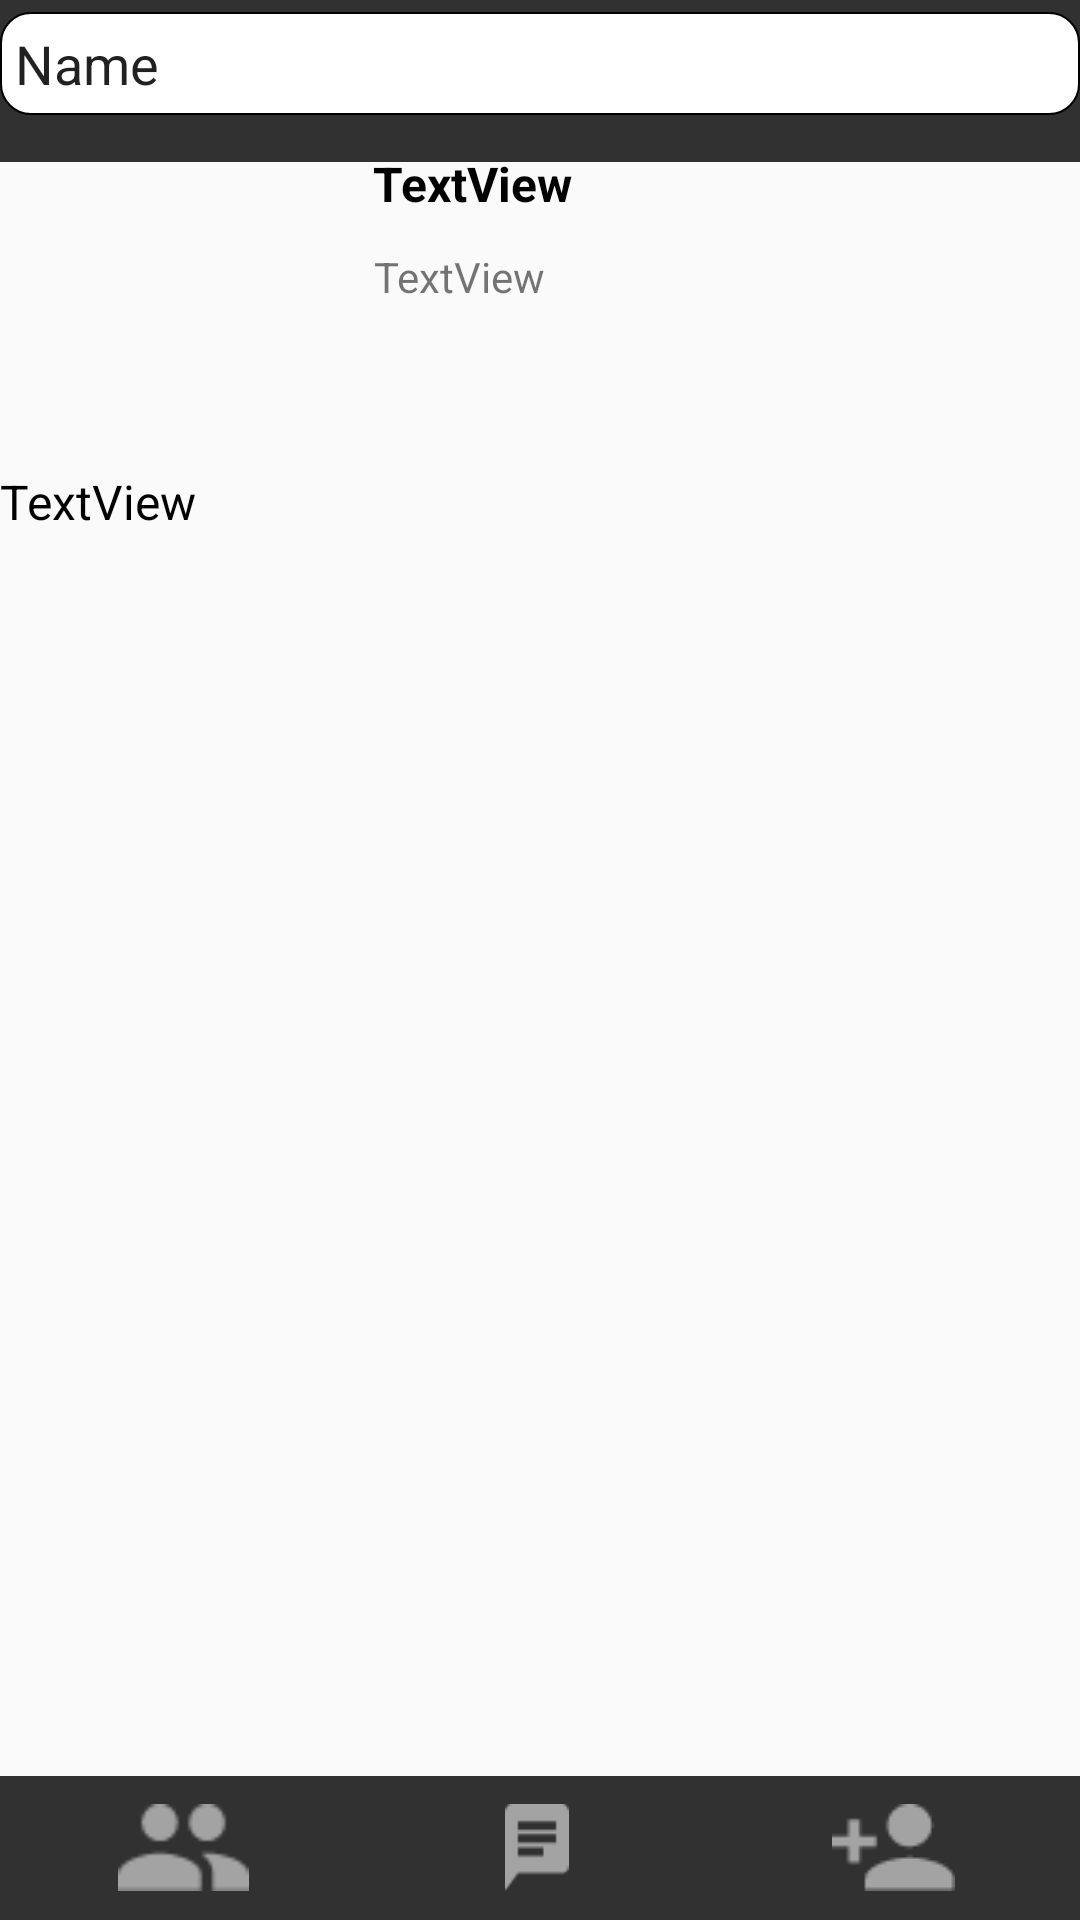

Icon click points for this 1080 × 1920 phone screenshot, format point (x, y):
add friend: point (893, 1847)
chat: point (537, 1847)
friend list: point (183, 1847)
